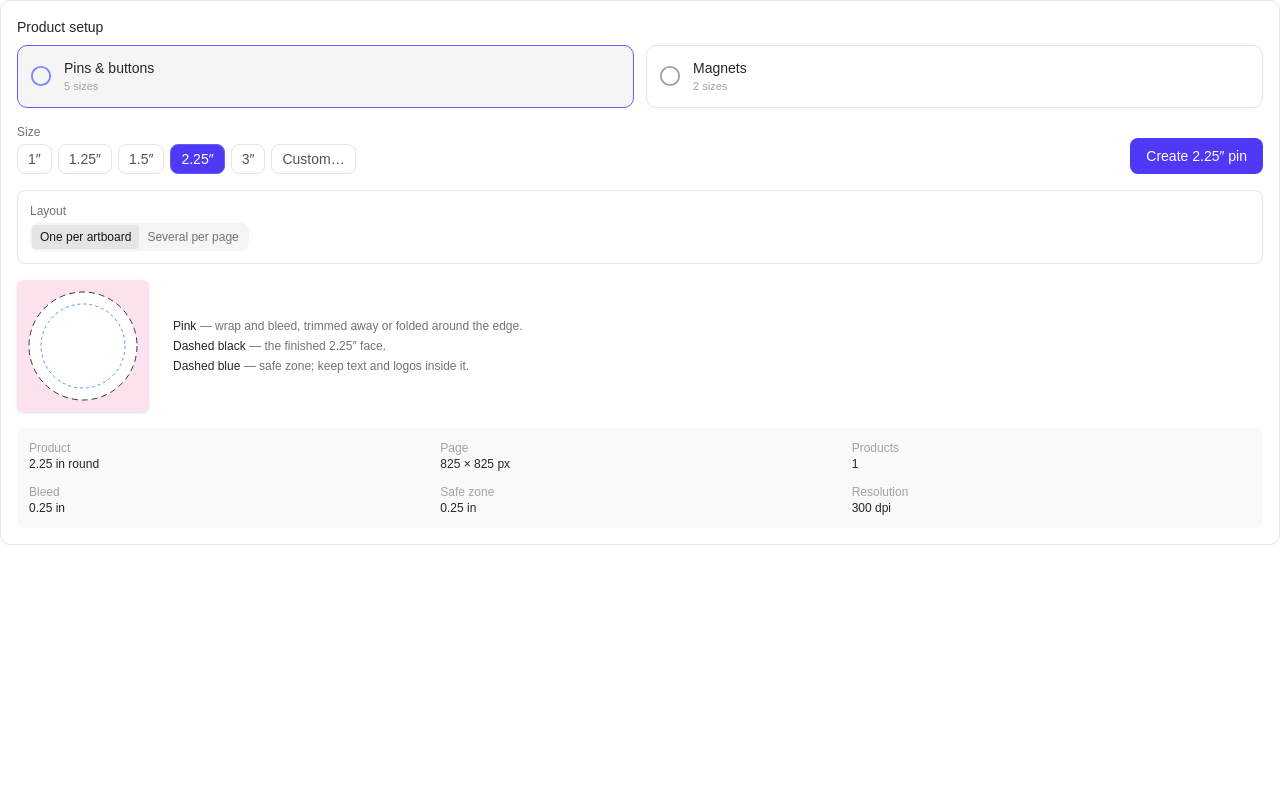
it: ProductSetupPanel — several per page (PROD-001) › re-fills for the new paper rather than holding onto the old count
Click the button "Several per page" at {"x": 193, "y": 236}, box [139,224,247,248]
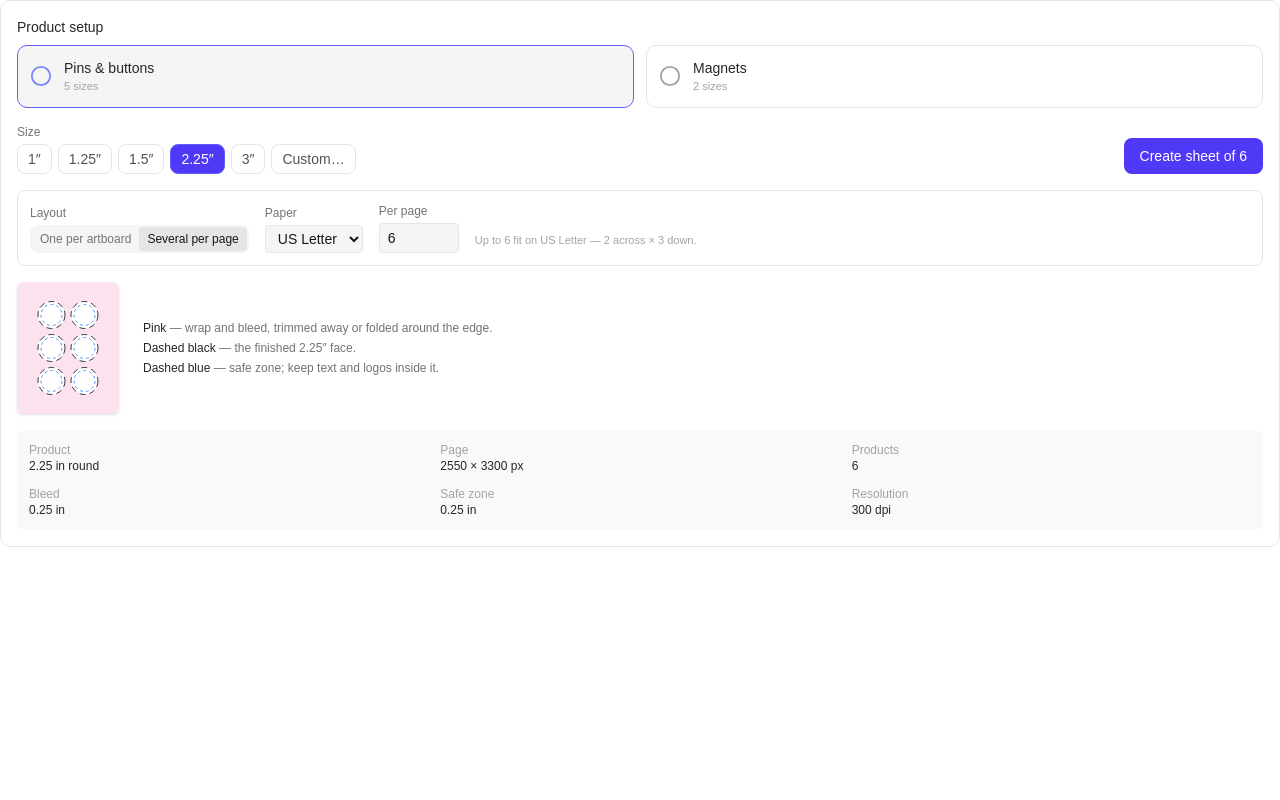
Select "A4" in the dropdown labelled "Paper" at {"x": 314, "y": 238}, box [265,224,363,252]
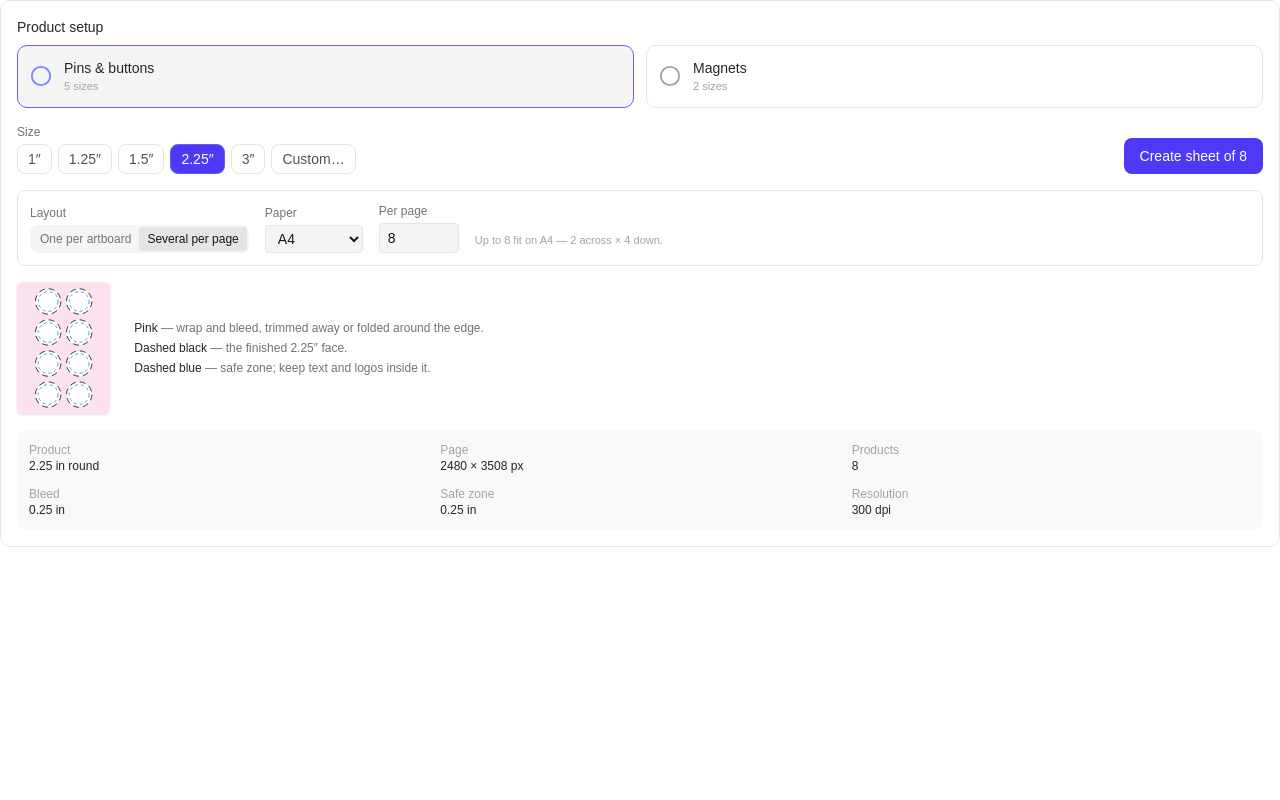
Check: the number field labelled "Per page" holds "8", box [379,222,459,252]
Check: the text "2480 × 3508 px" is shown, box [440,458,523,472]
